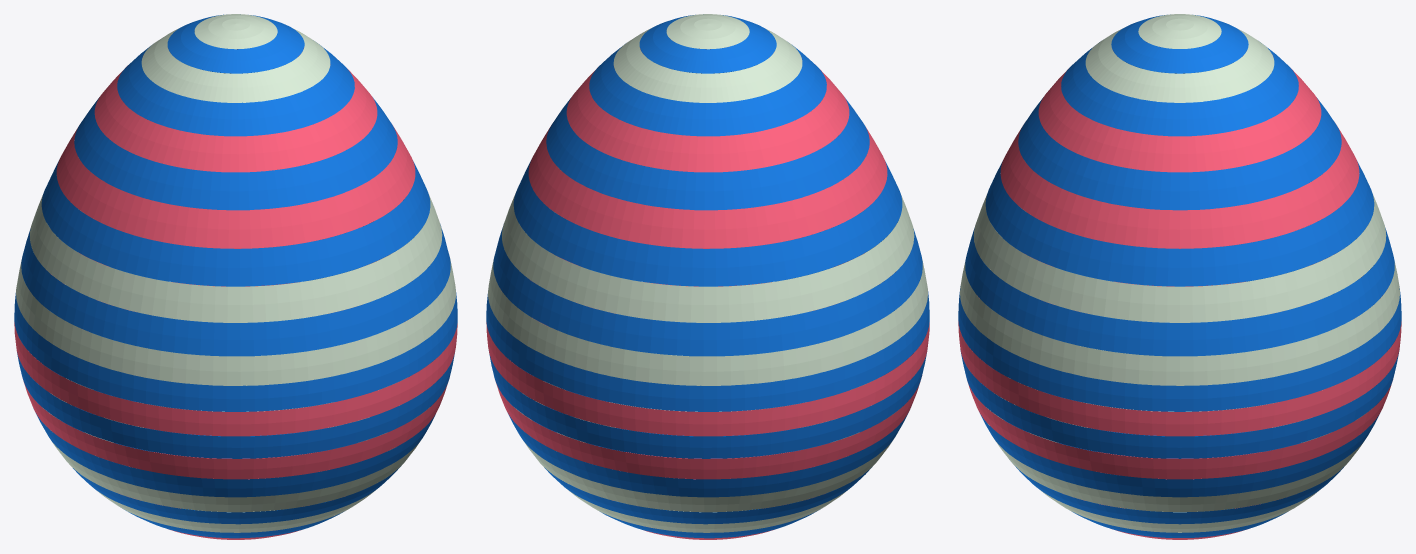
Rendered from blueeggDraco.gltf.
3 views of the same model, side by side, from view 1: azimuth 30°, elevation 25°; view 2: azimuth 150°, elevation 25°; view 3: azimuth 270°, elevation 25° (orthographic).
Parts seen in each view (by area): view 1: Sphere; view 2: Sphere; view 3: Sphere.
Part boxes in pixels (bbox=[...]): Sphere: bbox=[14, 14, 457, 539]; Sphere: bbox=[486, 14, 929, 539]; Sphere: bbox=[958, 14, 1401, 539].
Bounding box in the file's own units: 2 × 2.46 × 2.
